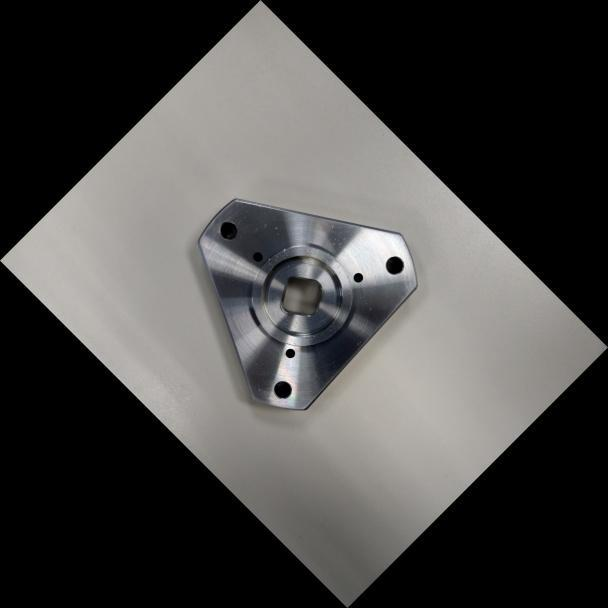hole: (212, 215, 243, 246), (379, 250, 410, 280), (267, 374, 297, 404), (349, 268, 367, 286), (281, 344, 299, 361), (249, 248, 266, 265)
